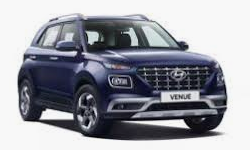car: (16, 11, 230, 141)
